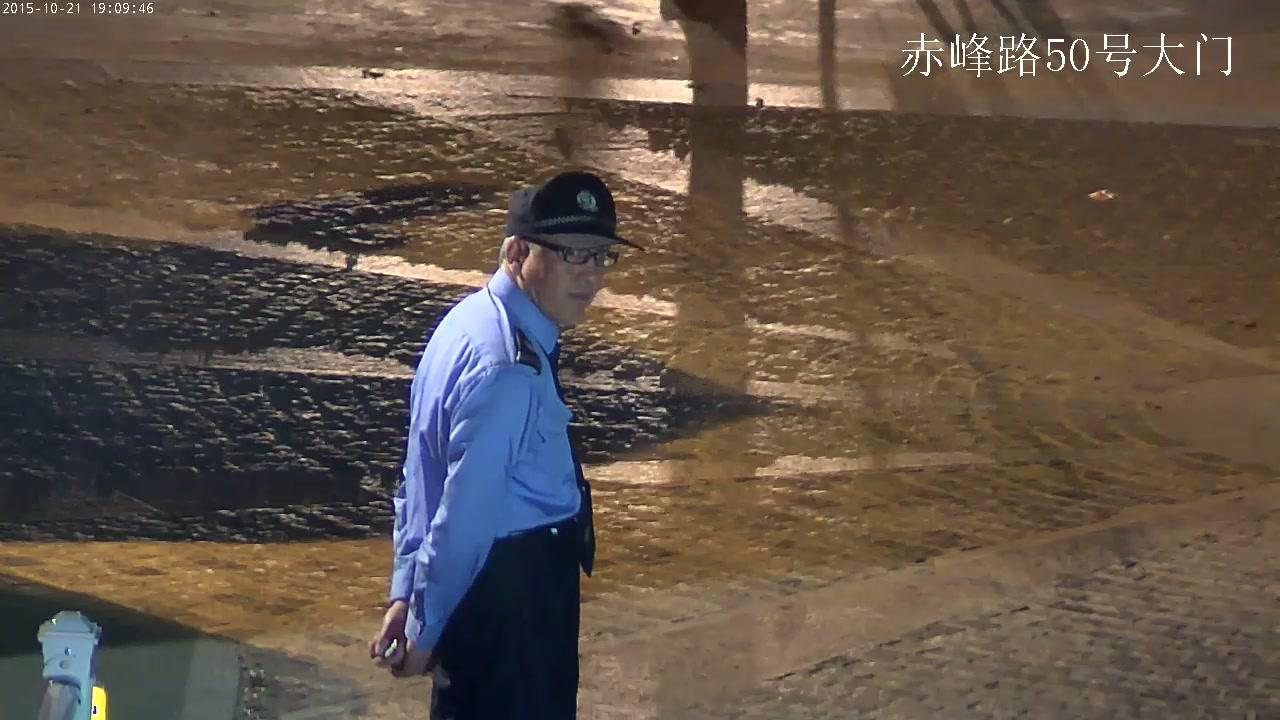face: (526, 240, 605, 322)
